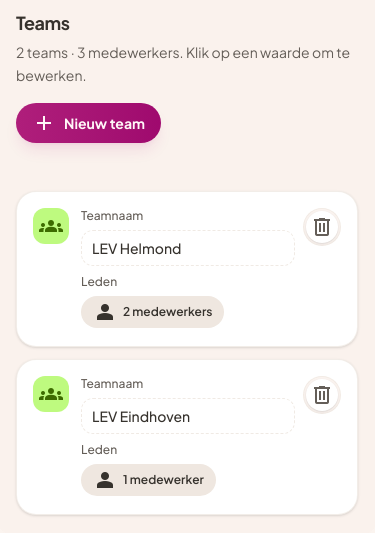
<TeamsTab /> › opens inline editing when clicking a team name
Click the button with aria-label "teamnaam bewerken: lev helmond" at (188, 248), box [81,230,295,266]
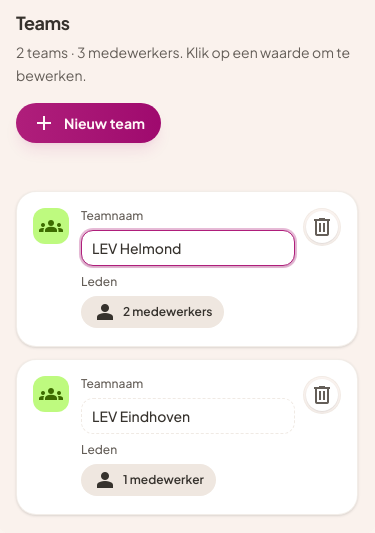
Check: the field showing "LEV Helmond" is shown, box [81,230,295,266]
